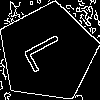L: (22, 28, 76, 74)
